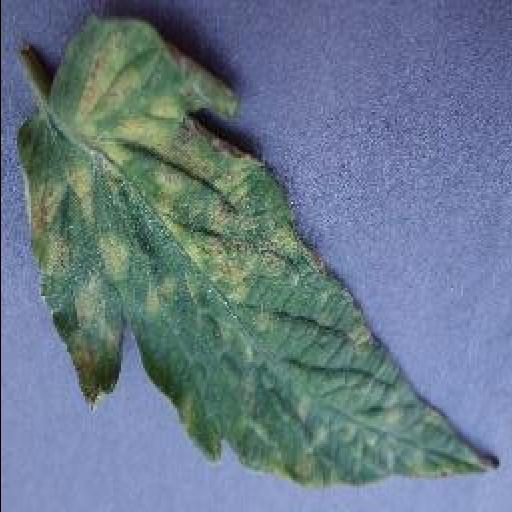disease_tomato: (18, 20, 496, 486)
